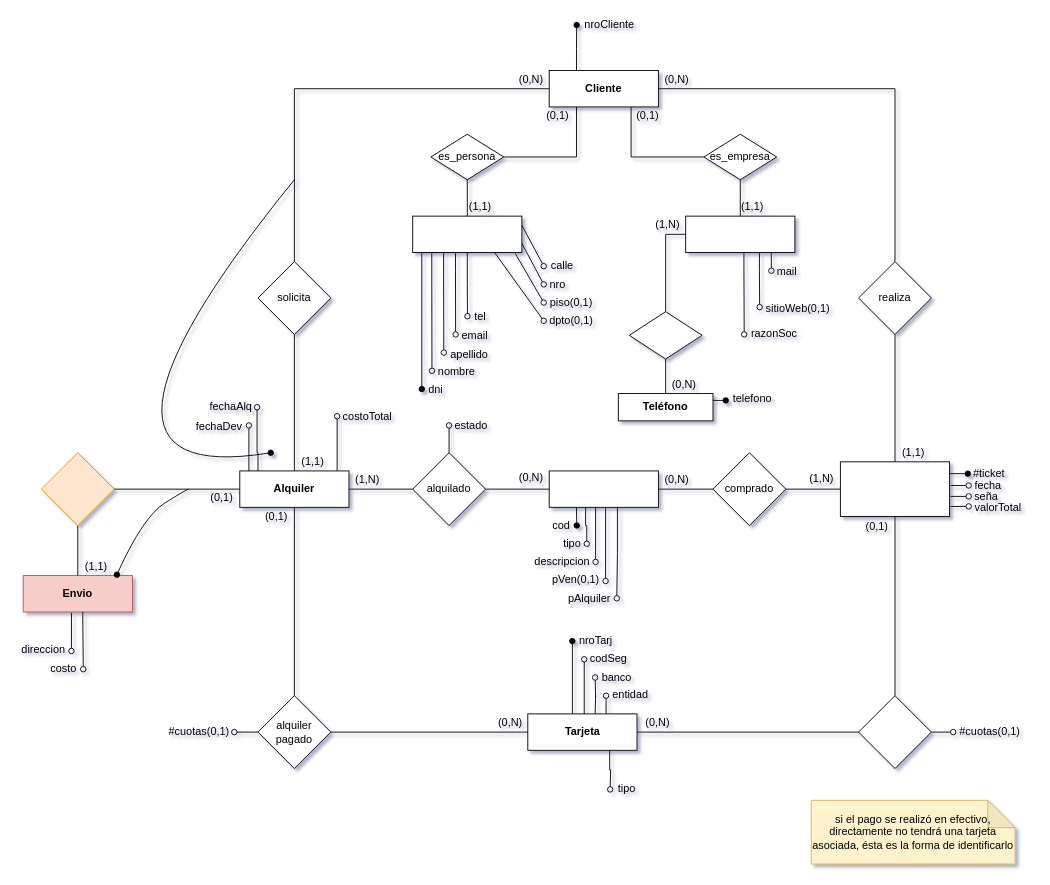
Image size: 1050x885. Some labels were removed from this diagram. Each missing label, with the centre of its shape:
"Compra" goes at (x=894, y=488).
"compra pagada" goes at (x=894, y=731).
"contacto" goes at (x=665, y=335).
"Empresa" goes at (x=740, y=234).
"enviado" goes at (x=77, y=489).
"Persona" goes at (x=467, y=234).
"Producto" goes at (x=603, y=488).
